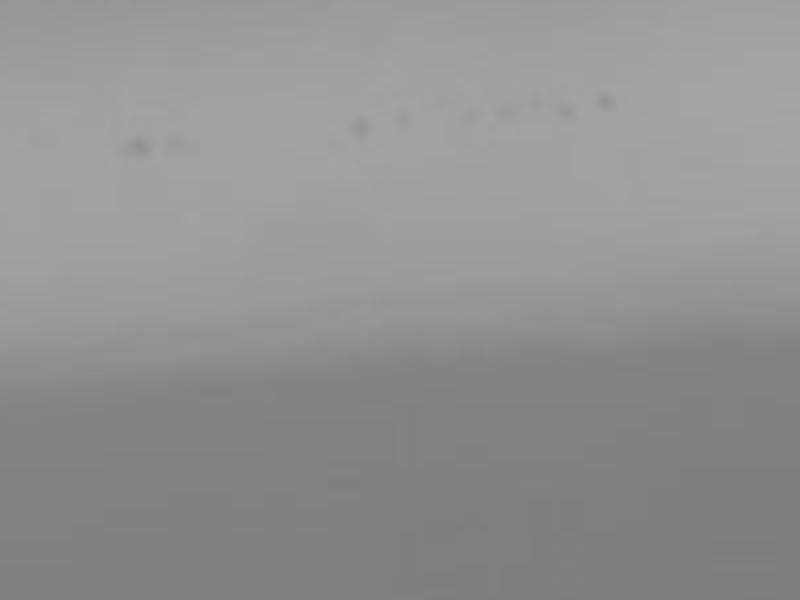defect: (162, 133, 201, 157), (344, 115, 374, 141), (123, 135, 152, 160), (459, 103, 487, 128), (497, 100, 525, 124), (591, 90, 617, 111), (391, 106, 415, 127), (555, 99, 575, 119)
